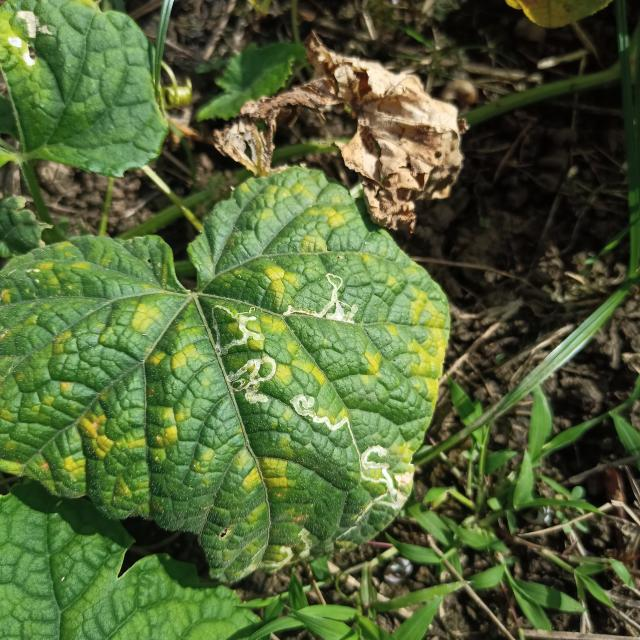disease_cucumber: (10, 185, 429, 565)
